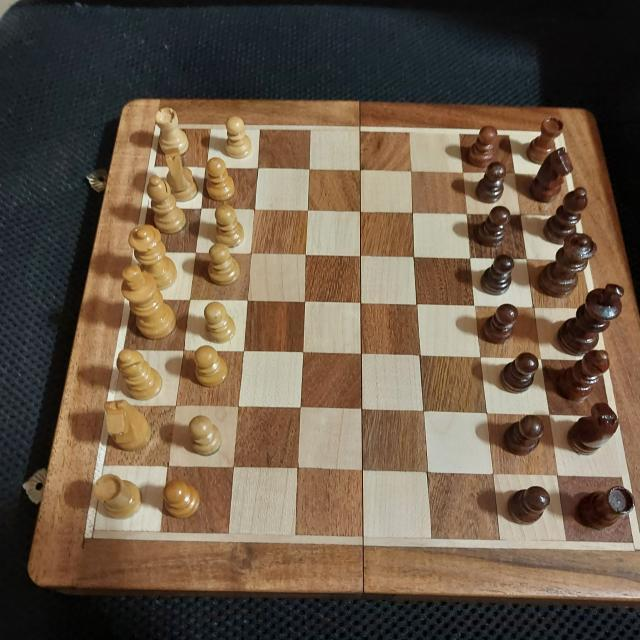black-camel: (562, 348, 616, 406), (545, 184, 592, 242)
black-elephant: (583, 484, 633, 530), (540, 119, 563, 159)
black-horse: (532, 150, 576, 204), (574, 401, 614, 459)
black-king: (562, 281, 625, 356)
black-pawn: (507, 416, 547, 456), (512, 484, 550, 526), (486, 303, 518, 348), (482, 254, 517, 292), (502, 352, 538, 388), (477, 161, 506, 203), (470, 126, 499, 158), (484, 207, 502, 250)
black-queen: (536, 233, 598, 293)
white-camel: (146, 180, 186, 234), (118, 350, 160, 400)
white-elephant: (97, 472, 138, 523), (151, 111, 192, 151)
white-horse: (102, 400, 154, 450), (163, 154, 200, 200)
white-king: (122, 270, 180, 340)
white-pawn: (186, 413, 220, 457), (190, 349, 228, 387), (164, 480, 202, 518), (203, 154, 234, 200), (222, 118, 254, 162), (200, 302, 232, 340), (208, 246, 238, 282), (212, 206, 242, 241)
white-queen: (128, 222, 178, 268)
